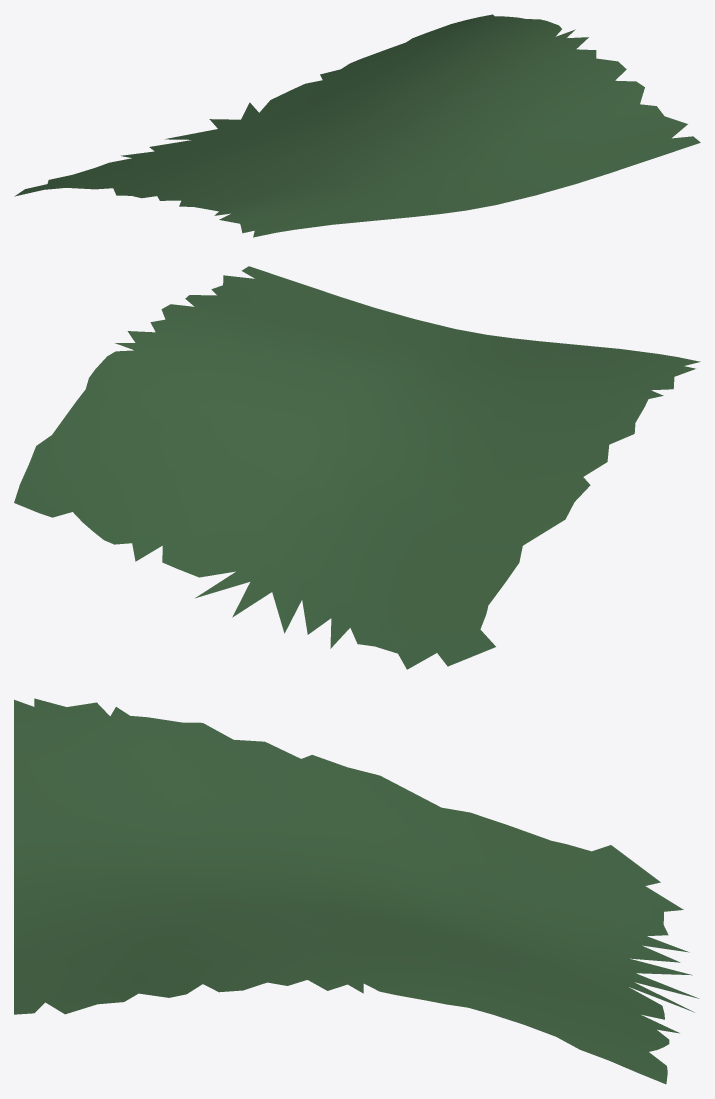
Rendered from payo_land_xm2_y10_lod1.glb.
3 views of the same model, one above another, from view 1: azimuth 30°, elevation 25°; view 2: azimuth 150°, elevation 25°; view 3: azimuth 270°, elevation 25° (orthographic). The views are drawn at different scales.
Parts seen in each view (by area): view 1: payo_land_xm2_y10; view 2: payo_land_xm2_y10; view 3: payo_land_xm2_y10.
Boxes of the visible parts, x1,y1,x2,y2 form: payo_land_xm2_y10: [14, 14, 700, 237]; payo_land_xm2_y10: [14, 266, 700, 669]; payo_land_xm2_y10: [14, 698, 699, 1084].
Bounding box in the file's own units: 275 × 77.69 × 257.
